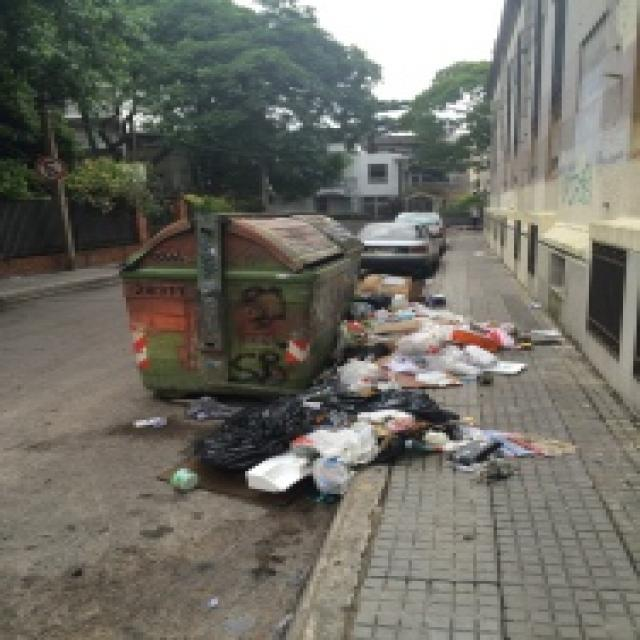garbage: (350, 269, 534, 484), (180, 389, 361, 499)
